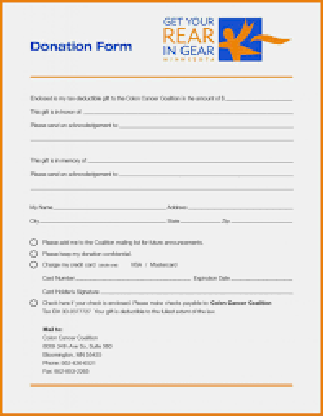checkbox: (26, 295, 39, 308), (26, 246, 38, 259), (28, 235, 39, 246), (28, 259, 38, 269)
textline: (29, 131, 297, 145), (29, 181, 295, 193), (85, 150, 297, 165), (82, 104, 295, 116), (116, 119, 297, 131), (119, 166, 297, 178), (101, 287, 294, 297), (188, 197, 295, 212), (39, 214, 166, 225), (54, 201, 166, 212), (75, 272, 191, 282), (225, 90, 294, 103), (228, 214, 294, 225), (232, 271, 294, 282), (178, 215, 222, 225)
